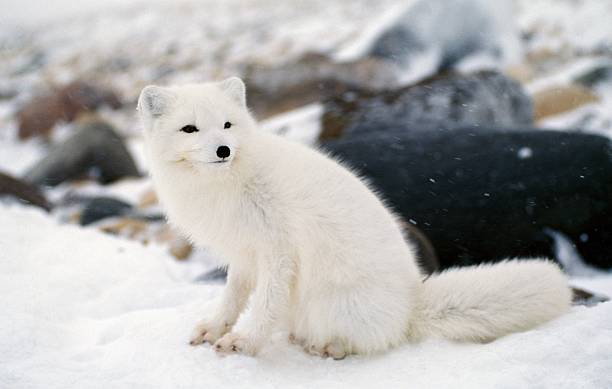arcticfox: (142, 81, 264, 191)
